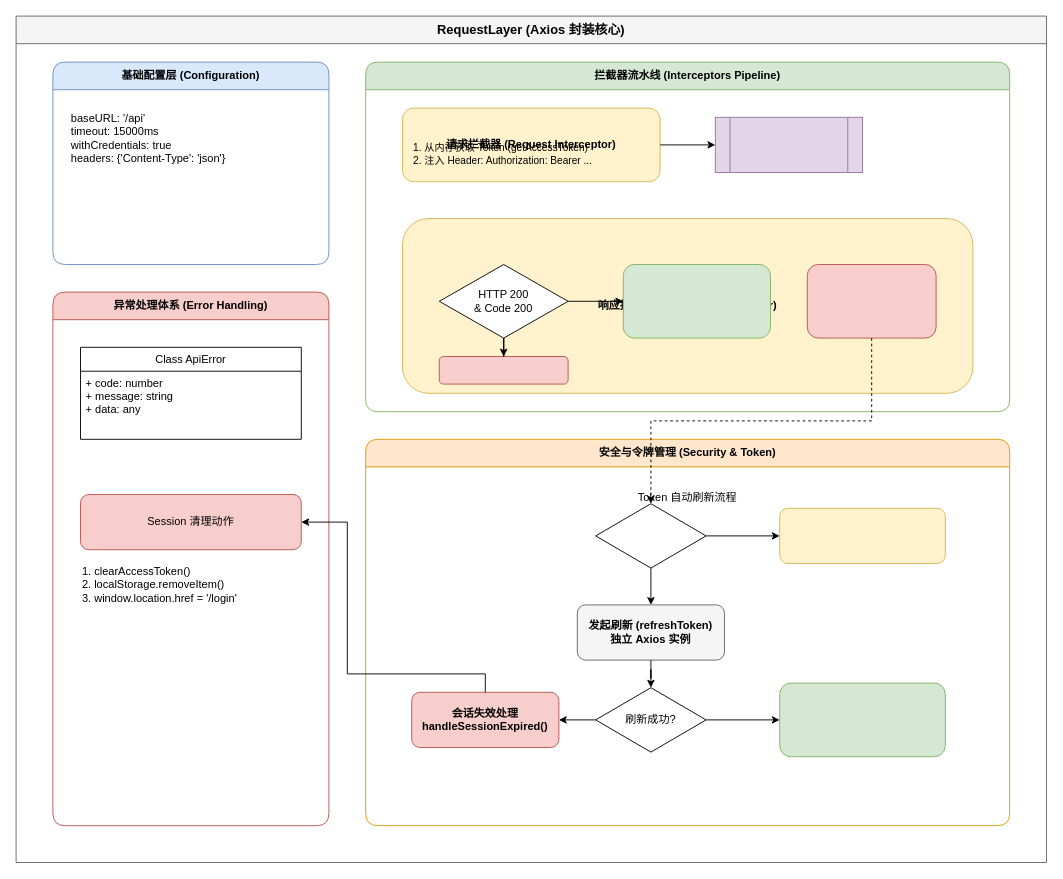
This 1063x879 diagram has some shape labels left out. The centre of each missing label's shape, as x and y in pixels:
1. 更新内存 Token 2. 执行队列请求 3. 重试当前请求: pixel 862 719
Axios Core Send: pixel 788 144
Code != 200: pixel 503 370
HTTP 401 (Unauthorized): pixel 871 301
isRefreshing?: pixel 650 535
数据解包 return res.data.data: pixel 696 301
请求入队 requestsQueue.push(cb): pixel 862 535
